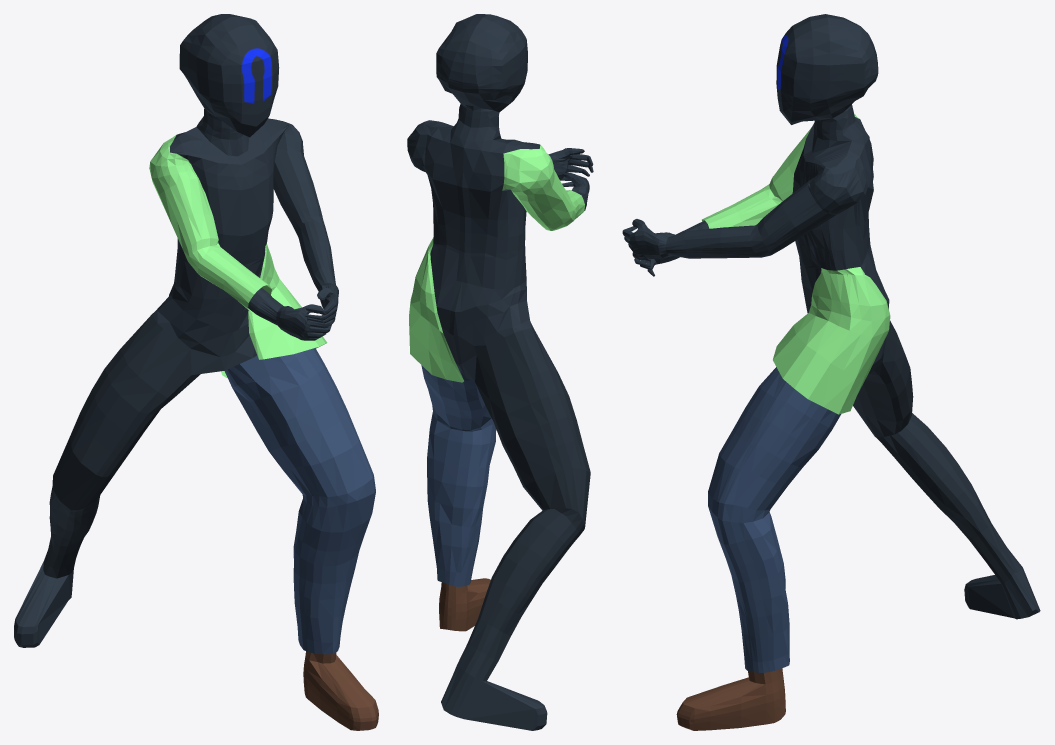
File: Mar_WR_000010.obj
3 views of the same model, side by side, from view 1: azimuth 30°, elevation 25°; view 2: azimuth 150°, elevation 25°; view 3: azimuth 270°, elevation 25° (orthographic). The views are drawn at different scales.
Parts seen in each view (by area): view 1: Cube.000_Cube.001; view 2: Cube.000_Cube.001; view 3: Cube.000_Cube.001.
Part boxes in pixels (left/top/right/bottom): Cube.000_Cube.001: left=14, top=14, right=378, bottom=730; Cube.000_Cube.001: left=407, top=14, right=593, bottom=730; Cube.000_Cube.001: left=622, top=14, right=1040, bottom=730.
Bounding box in the file's own units: 1.35 × 3.73 × 2.09.
